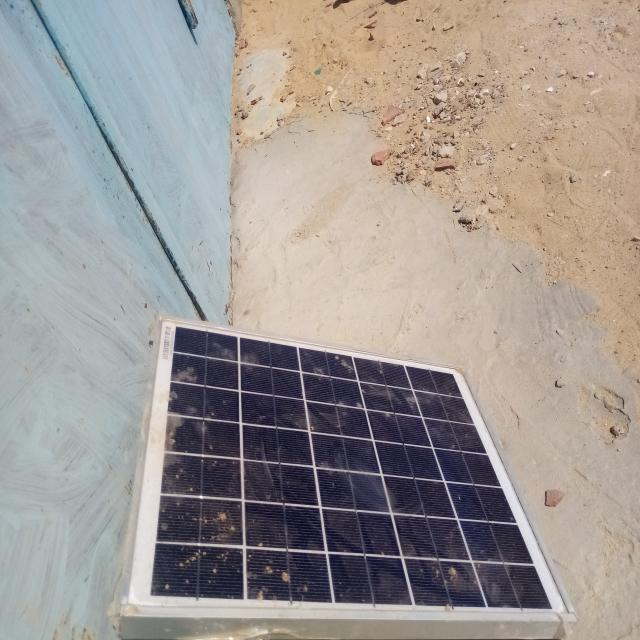faulty: (122, 324, 574, 613)
